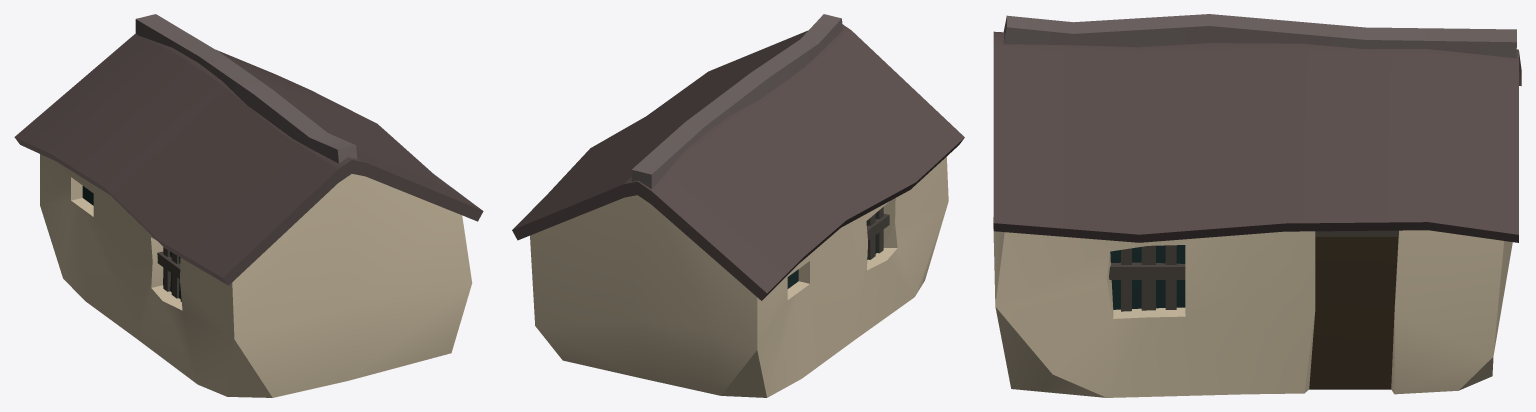
The model's file is Building_mode_L1_Northhouse001.fbx.
The picture shows the model from 3 angles, left to right: view 1: azimuth 30°, elevation 25°; view 2: azimuth 150°, elevation 25°; view 3: azimuth 270°, elevation 25°; orthographic projection. The views are drawn at different scales.
Parts seen in each view (by area): view 1: Building_mode_L1_Northhouse001; view 2: Building_mode_L1_Northhouse001; view 3: Building_mode_L1_Northhouse001.
Part boxes in pixels (<box>): Building_mode_L1_Northhouse001: <box>14,14,483,397</box>; Building_mode_L1_Northhouse001: <box>512,14,964,397</box>; Building_mode_L1_Northhouse001: <box>993,14,1521,397</box>.
Size of the model in its own units: 2.9 by 2.35 by 3.75.
